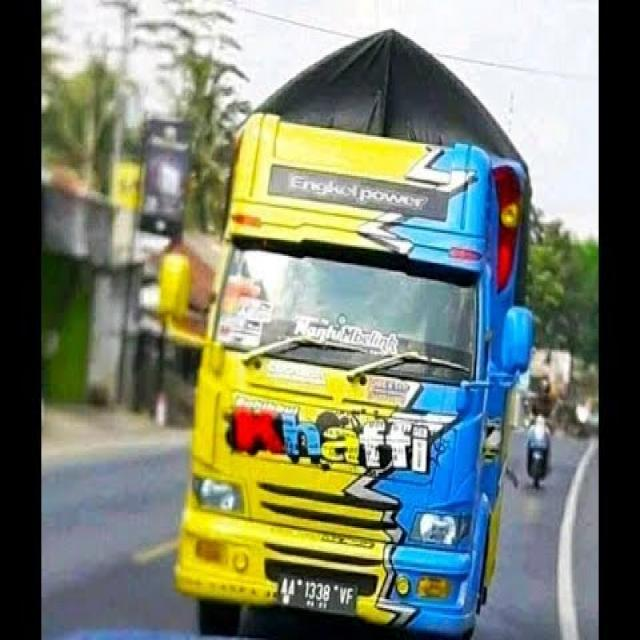truck: (159, 25, 532, 638)
